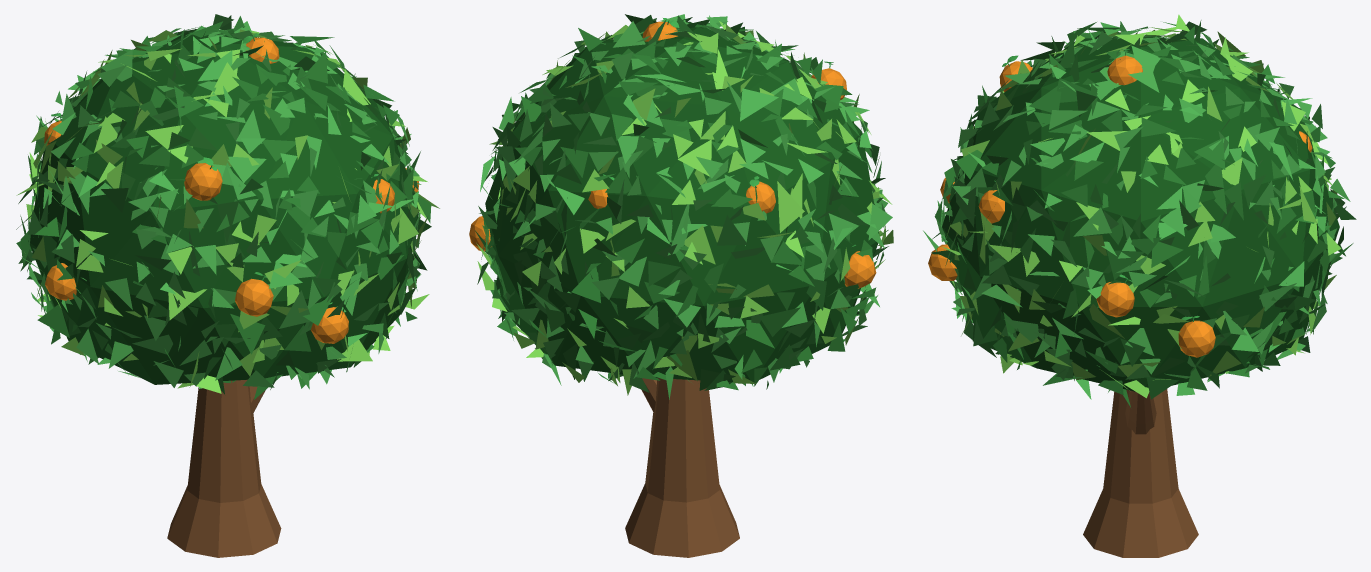
The model's file is ORANGE TREE.fbx.
3 views of the same model, side by side, from view 1: azimuth 30°, elevation 25°; view 2: azimuth 150°, elevation 25°; view 3: azimuth 270°, elevation 25° (orthographic).
Parts seen in each view (by area): view 1: Cylinder.011; view 2: Cylinder.011; view 3: Cylinder.011.
Part boxes in pixels (x1,y1,x2,y2): Cylinder.011: (16, 14, 439, 557); Cylinder.011: (469, 14, 893, 557); Cylinder.011: (923, 14, 1356, 557).
Bounding box in the file's own units: 1551 × 2039 × 1609.
